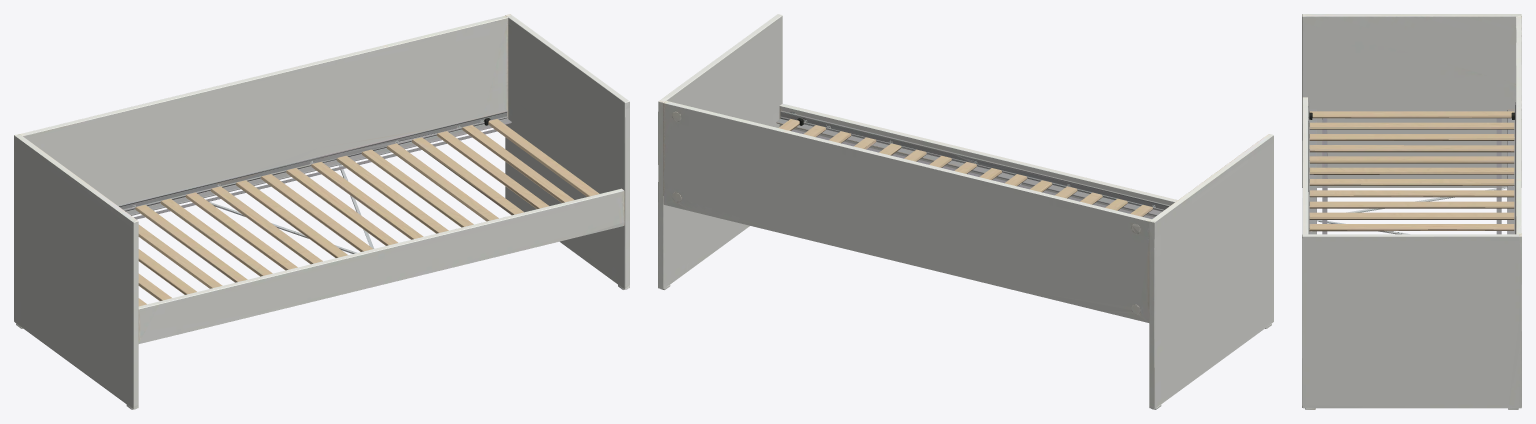
The picture shows the model from 3 angles, left to right: view 1: azimuth 30°, elevation 25°; view 2: azimuth 150°, elevation 25°; view 3: azimuth 270°, elevation 25°; orthographic projection. The views are drawn at different scales.
Parts seen in each view (by area): view 1: ASY_ART_00595086_S01_NV01_NODE_ID_61d42aea-fab0-465e-a33f-fb; view 2: ASY_ART_00595086_S01_NV01_NODE_ID_61d42aea-fab0-465e-a33f-fb; view 3: ASY_ART_00595086_S01_NV01_NODE_ID_61d42aea-fab0-465e-a33f-fb.
Part boxes in pixels (x1,y1,x2,y2): ASY_ART_00595086_S01_NV01_NODE_ID_61d42aea-fab0-465e-a33f-fb: (14,14,629,409); ASY_ART_00595086_S01_NV01_NODE_ID_61d42aea-fab0-465e-a33f-fb: (658,14,1273,409); ASY_ART_00595086_S01_NV01_NODE_ID_61d42aea-fab0-465e-a33f-fb: (1302,14,1521,409).
Bounding box in the file's own units: 2.06 × 0.75 × 0.8601.
1 material, 1 textured.
